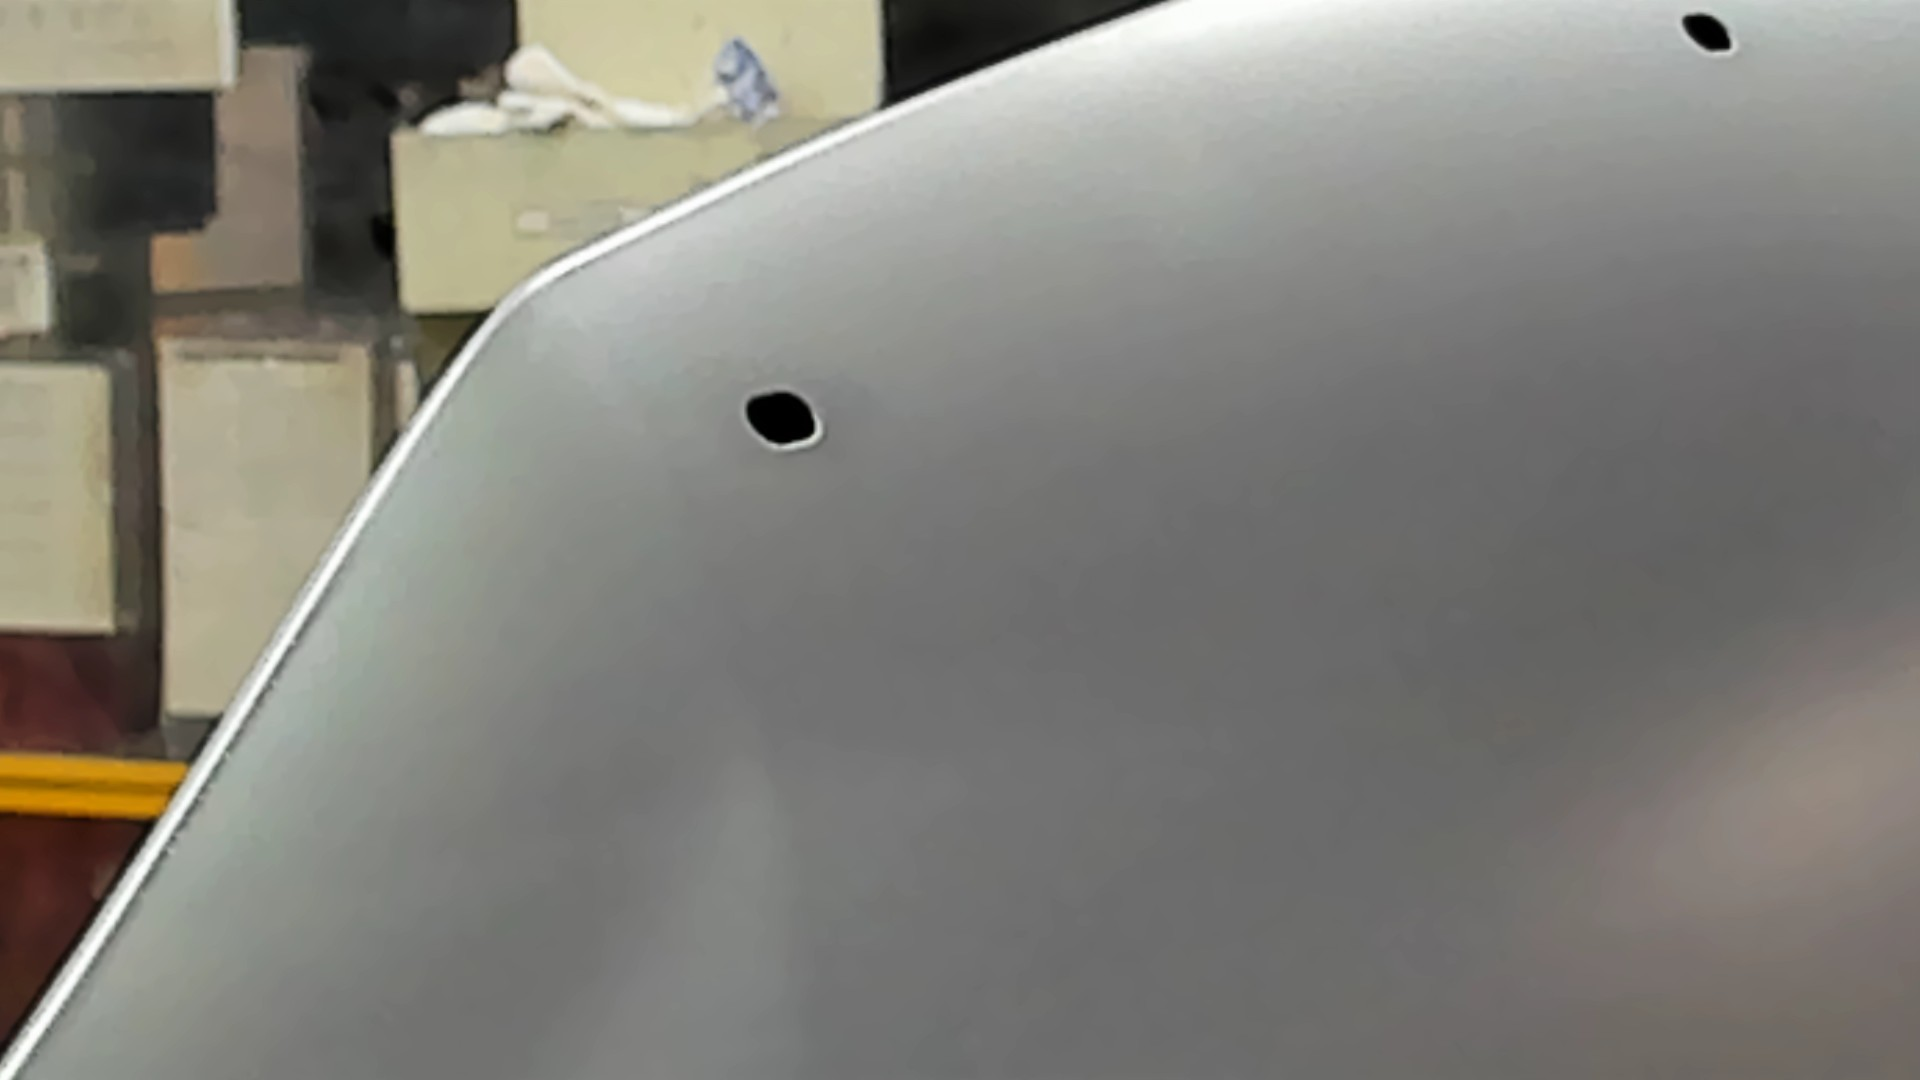amorfo: (735, 377, 836, 458), (1673, 5, 1743, 65)
capo: (919, 120, 1920, 1080)
